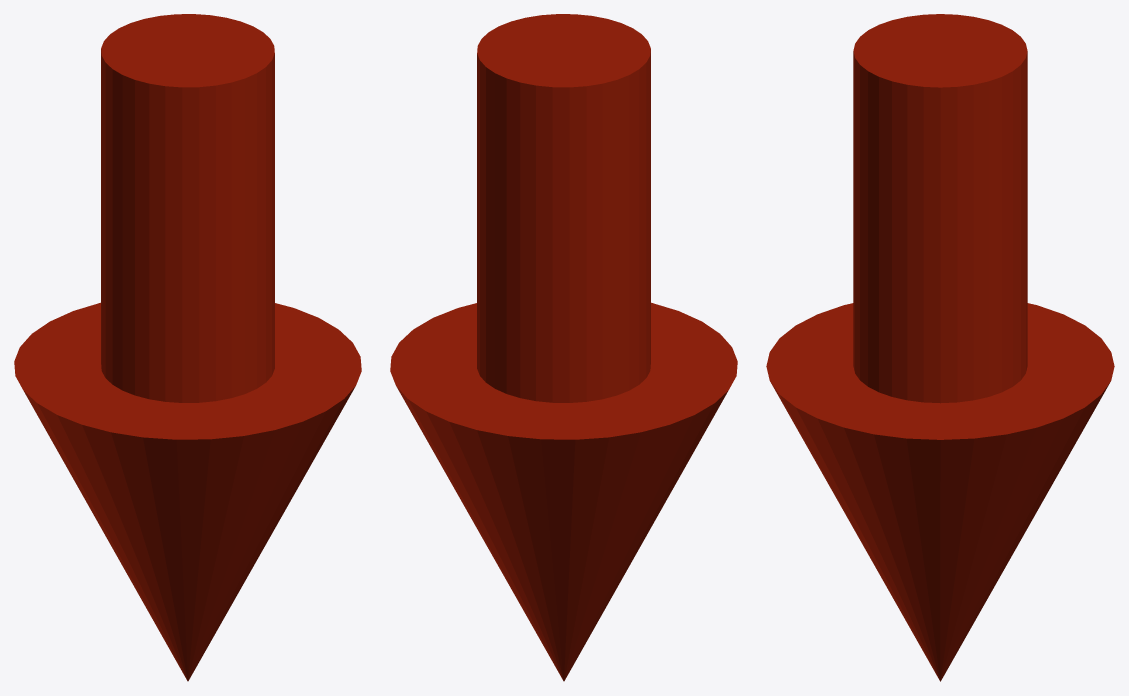
File: Arrow.fbx
The picture shows the model from 3 angles, left to right: view 1: azimuth 30°, elevation 25°; view 2: azimuth 150°, elevation 25°; view 3: azimuth 270°, elevation 25°; orthographic projection.
Visible parts, largest first — view 1: Cylinder; view 2: Cylinder; view 3: Cylinder.
Part boxes in pixels (box(x1,y1,x2,y2)): Cylinder: box(14, 14, 361, 681); Cylinder: box(390, 14, 737, 681); Cylinder: box(766, 14, 1114, 681).
Bounding box in the file's own units: 100000 × 200000 × 100000.
